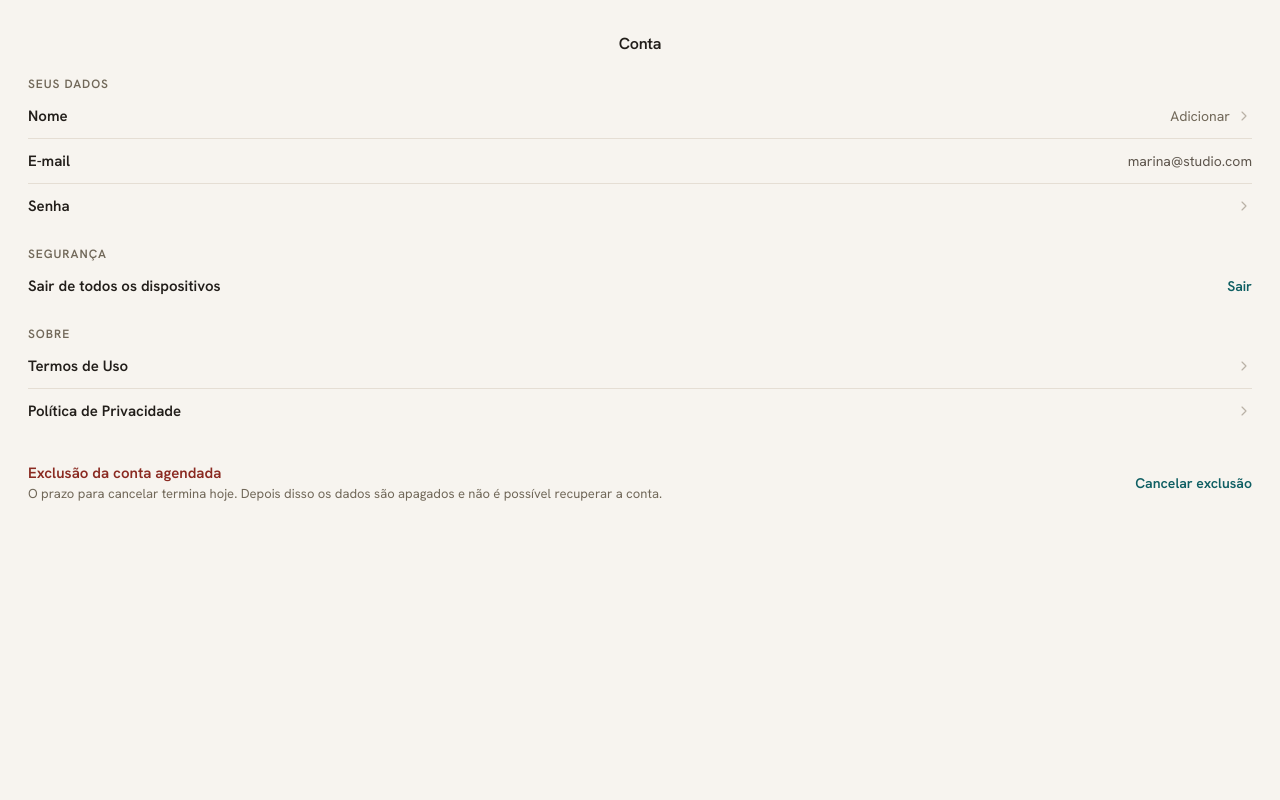
cancelar diz que WhatsApp e IA não voltam sozinhos e que operar de novo exige reconectar e retestar
Click the button "Cancelar exclusão": coordinates (1194, 483) 1135,461 -> 1252,505
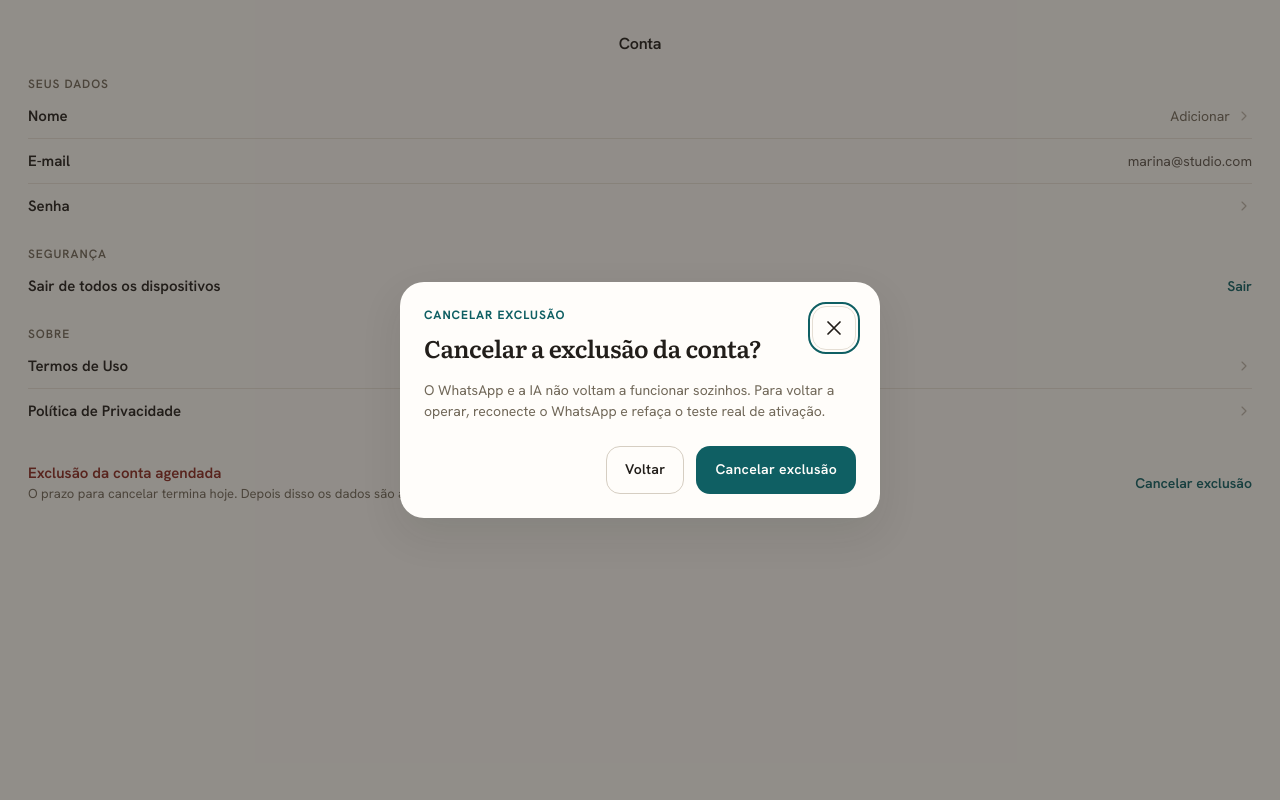
Check: the dialog "Cancelar a exclusão da conta?" shows "WhatsApp e a IA não voltam a funcionar sozinhos", box 424,381 -> 834,420
Check: the dialog "Cancelar a exclusão da conta?" shows "reconecte o WhatsApp e refaça o teste real de ativação", box 424,381 -> 834,420
Click the button "Cancelar exclusão": coordinates (776, 470) 696,446 -> 856,494
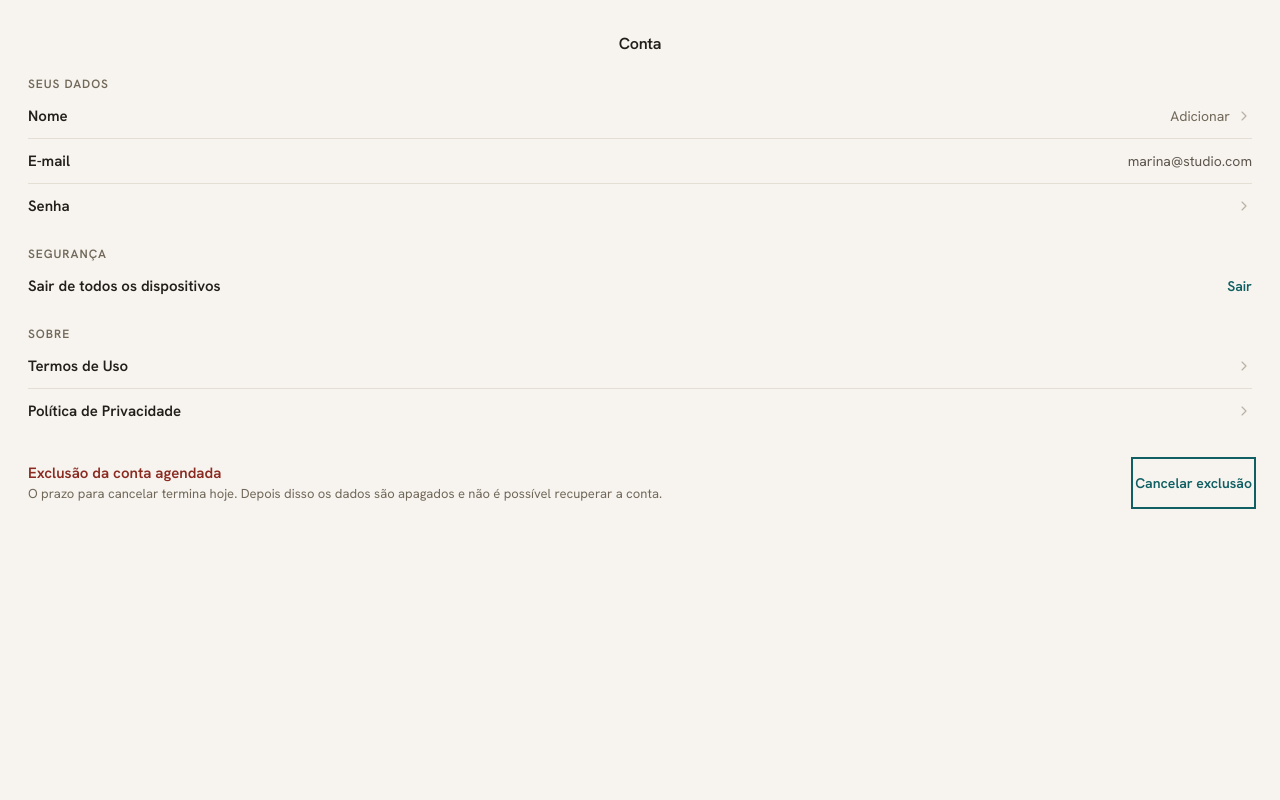
Check: the dialog is gone
